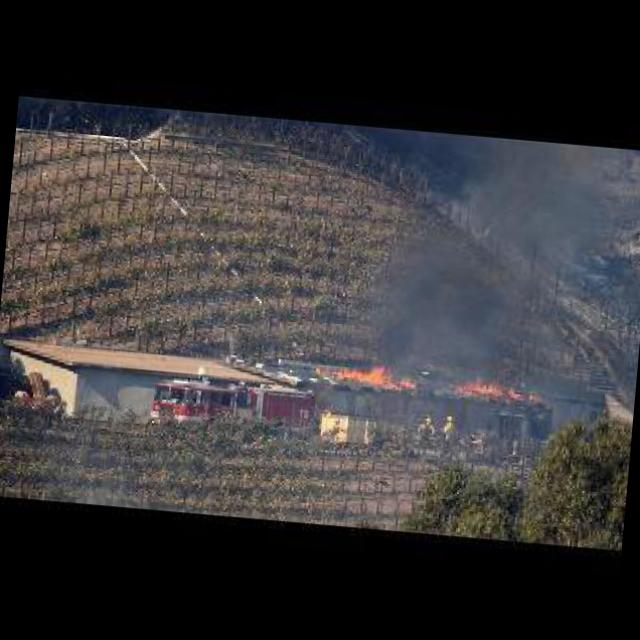fire: (448, 358, 536, 406), (330, 358, 420, 395)
smoke: (358, 138, 618, 386)
